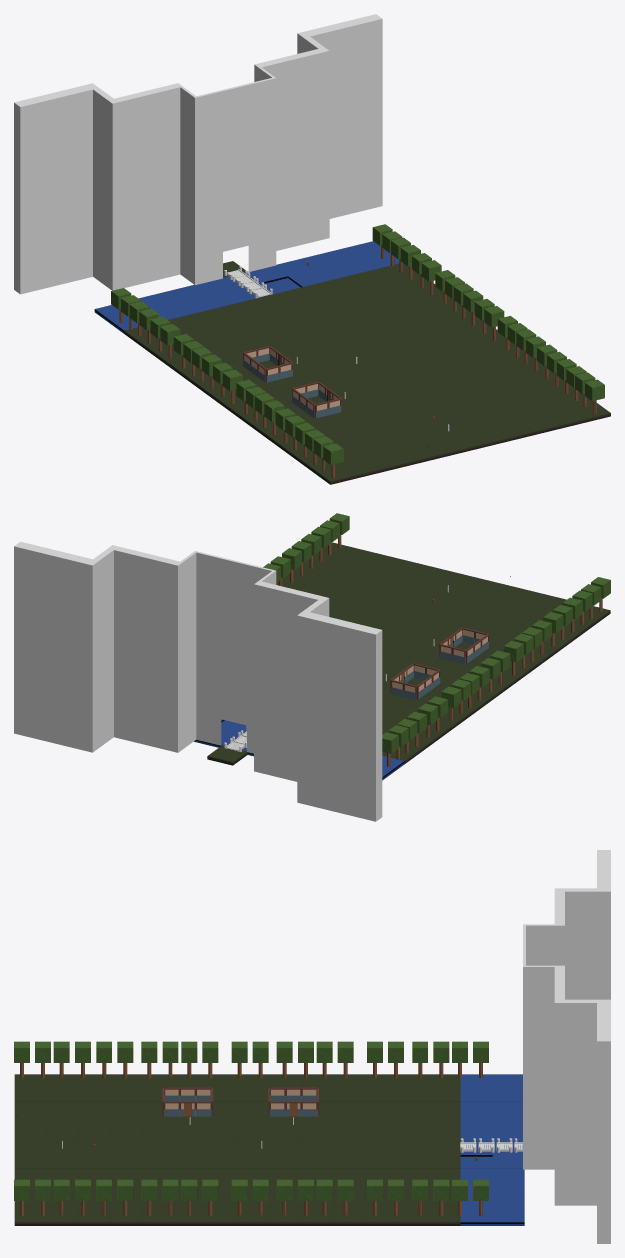
File: hub.glb
3 views of the same model, one above another, from view 1: azimuth 30°, elevation 25°; view 2: azimuth 150°, elevation 25°; view 3: azimuth 270°, elevation 25° (orthographic). The views are drawn at different scales.
Visible parts, largest first — view 1: Cube.183; view 2: Cube.183, SPAWN_dungeon_spawn_location_NORTH; view 3: Cube.183, Cube.117, Cube.123, Cube.124, Cube.138, Cube.141.
Boxes of the visible parts, <box> form: Cube.183: <box>14,14,382,294</box>; Cube.183: <box>14,541,382,821</box>; SPAWN_dungeon_spawn_location_NORTH: <box>207,745,247,765</box>; Cube.183: <box>523,850,610,1243</box>; Cube.117: <box>492,1209,524,1225</box>; Cube.123: <box>333,1209,365,1225</box>; Cube.124: <box>269,1209,301,1225</box>; Cube.138: <box>110,1209,142,1225</box>; Cube.141: <box>46,1209,78,1225</box>.
Bounding box in the file's own units: 56.79 × 28.83 × 74.96.
Materials: 265 (257 with a texture image).
